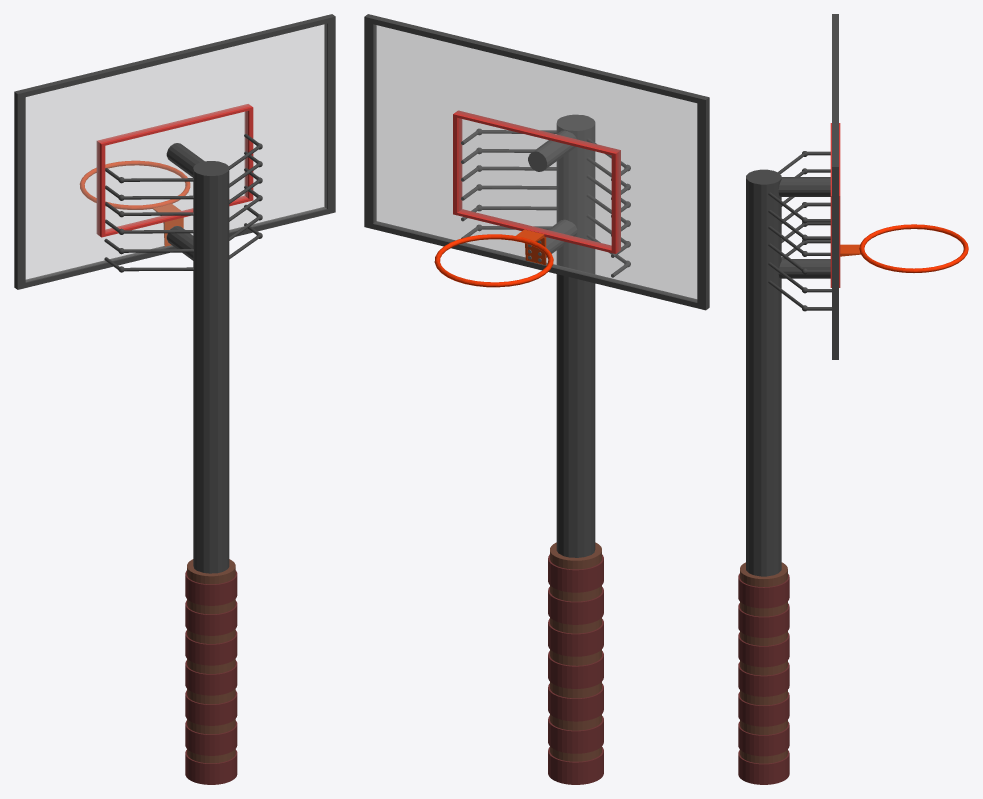
File: hoop.glb
3 renders of one model, left to right at view 1: azimuth 30°, elevation 25°; view 2: azimuth 150°, elevation 25°; view 3: azimuth 270°, elevation 25°, orthographic. The views are drawn at different scales.
Parts seen in each view (by area): view 1: Cube.005, Cube.003, Cube.006, Cylinder.001, Cube.004, Cube.001, Cylinder.002, Circle.001; view 2: Cube.005, Cube.003, Cube.006, Cylinder.001, Cube.001, Cylinder.002, Cube.004, Circle.001; view 3: Cube.003, Cylinder.001, Cylinder.002, Cube.004, Cube.006, Circle.001, Cube.001.
Boxes of the visible parts, x1,y1,x2,y2 form: Cube.005: (26, 24, 326, 281); Cube.003: (166, 143, 229, 573); Cube.006: (14, 14, 335, 289); Cylinder.001: (185, 570, 237, 784); Cube.004: (104, 133, 262, 272); Cube.001: (96, 104, 253, 237); Cylinder.002: (187, 559, 235, 763); Circle.001: (80, 160, 190, 209); Cube.005: (374, 25, 696, 301); Cube.003: (528, 114, 595, 557); Cube.006: (364, 14, 709, 310); Cylinder.001: (548, 554, 603, 784); Cube.001: (453, 110, 620, 253); Cylinder.002: (550, 542, 601, 761); Cube.004: (461, 128, 630, 277); Circle.001: (434, 234, 553, 287); Cube.003: (746, 169, 830, 576); Cylinder.001: (738, 573, 789, 784); Cylinder.002: (740, 562, 787, 763); Cube.004: (768, 151, 831, 311); Cube.006: (832, 14, 838, 359); Circle.001: (859, 224, 968, 272); Cube.001: (830, 123, 840, 287).
Bounding box in the file's own units: 7.28 × 15.16 × 4.64.
